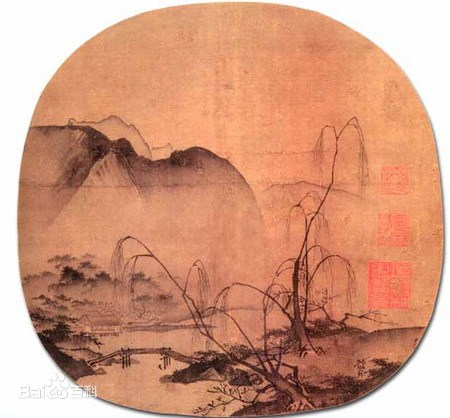bridge: (86, 347, 202, 369)
hill: (26, 114, 265, 260)
house: (65, 299, 127, 345)
tree: (108, 229, 325, 408), (253, 102, 367, 361), (20, 250, 164, 306)
